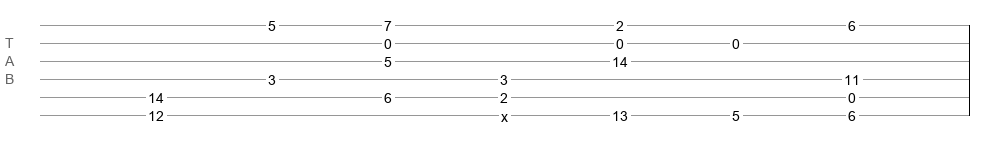0: (384, 36, 392, 46), (616, 36, 624, 46), (732, 36, 740, 46), (848, 90, 856, 100)
11: (844, 72, 860, 82)
12: (148, 108, 164, 118)
13: (612, 108, 628, 118)
14: (148, 90, 164, 100), (612, 54, 628, 64)
2: (500, 90, 508, 100), (616, 18, 624, 28)
3: (268, 72, 276, 82), (500, 72, 508, 82)
5: (268, 18, 276, 28), (384, 54, 392, 64), (732, 108, 740, 118)
6: (384, 90, 392, 100), (848, 18, 856, 28), (848, 108, 856, 118)
7: (384, 18, 392, 28)
x: (501, 109, 508, 117)
